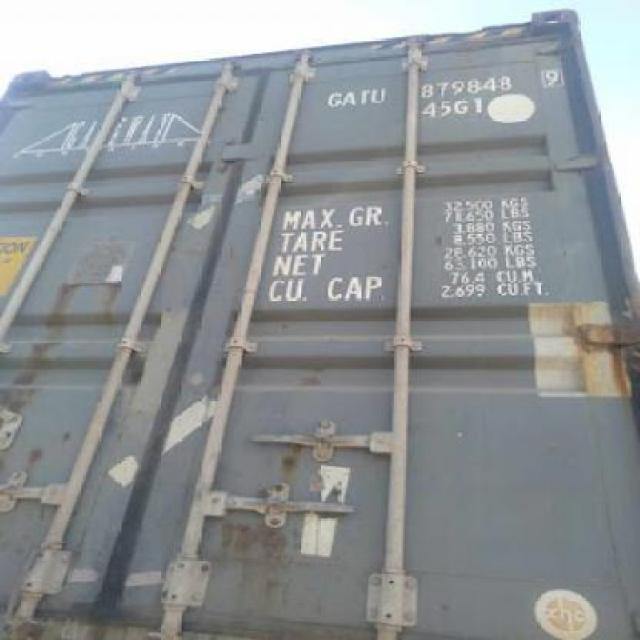ISO: (422, 98, 482, 119)
container_number: (327, 63, 562, 110)
